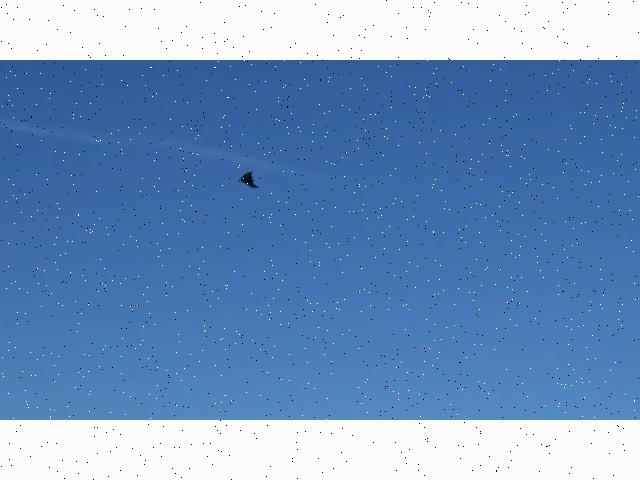Anti-Drone: (233, 166, 265, 196)
